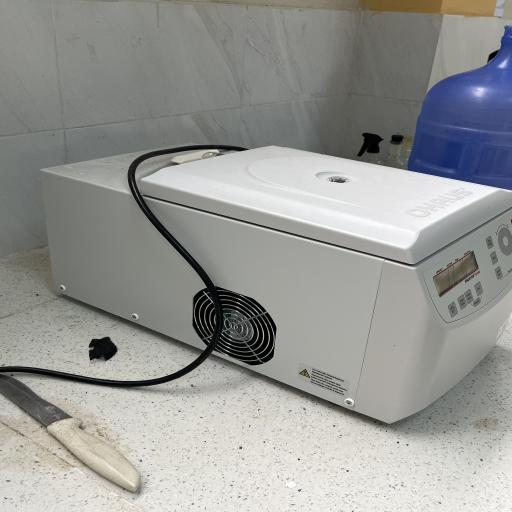Centrifuga_Ohaus_Frontier: (30, 128, 512, 436)
